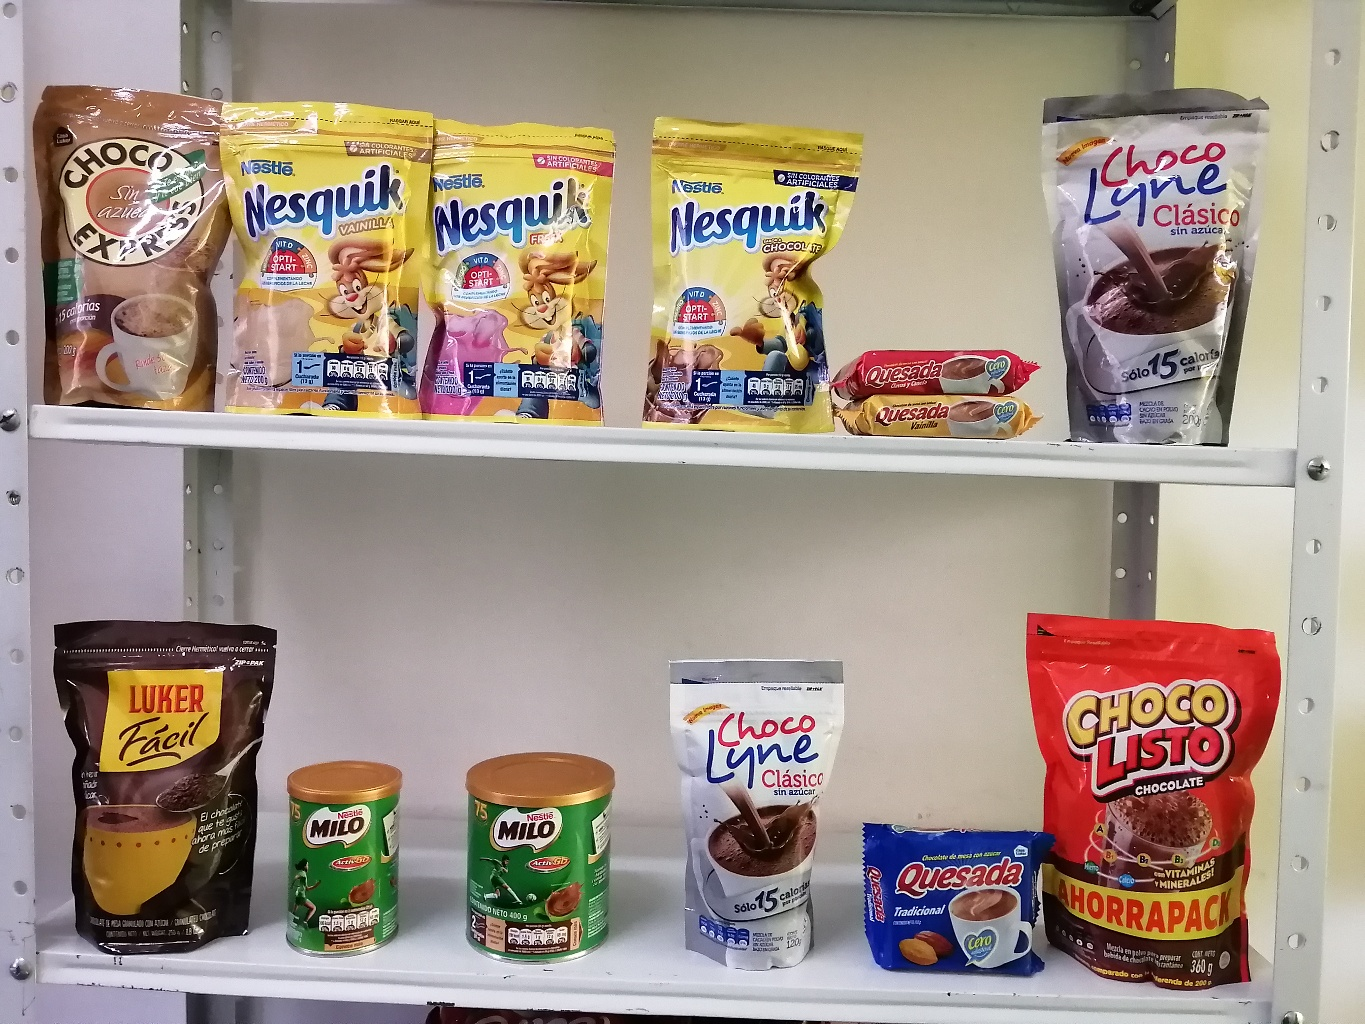COL0170103DYP36000: (1027, 605, 1278, 989)
COL0170203LAT20000: (280, 746, 429, 959)
COL0170203LAT40000: (447, 752, 627, 980)
COL0170303DYP20000: (636, 101, 855, 436)
COL0170305DYP20000: (430, 111, 631, 419)
COL0170306DYP20000: (221, 96, 433, 425)
